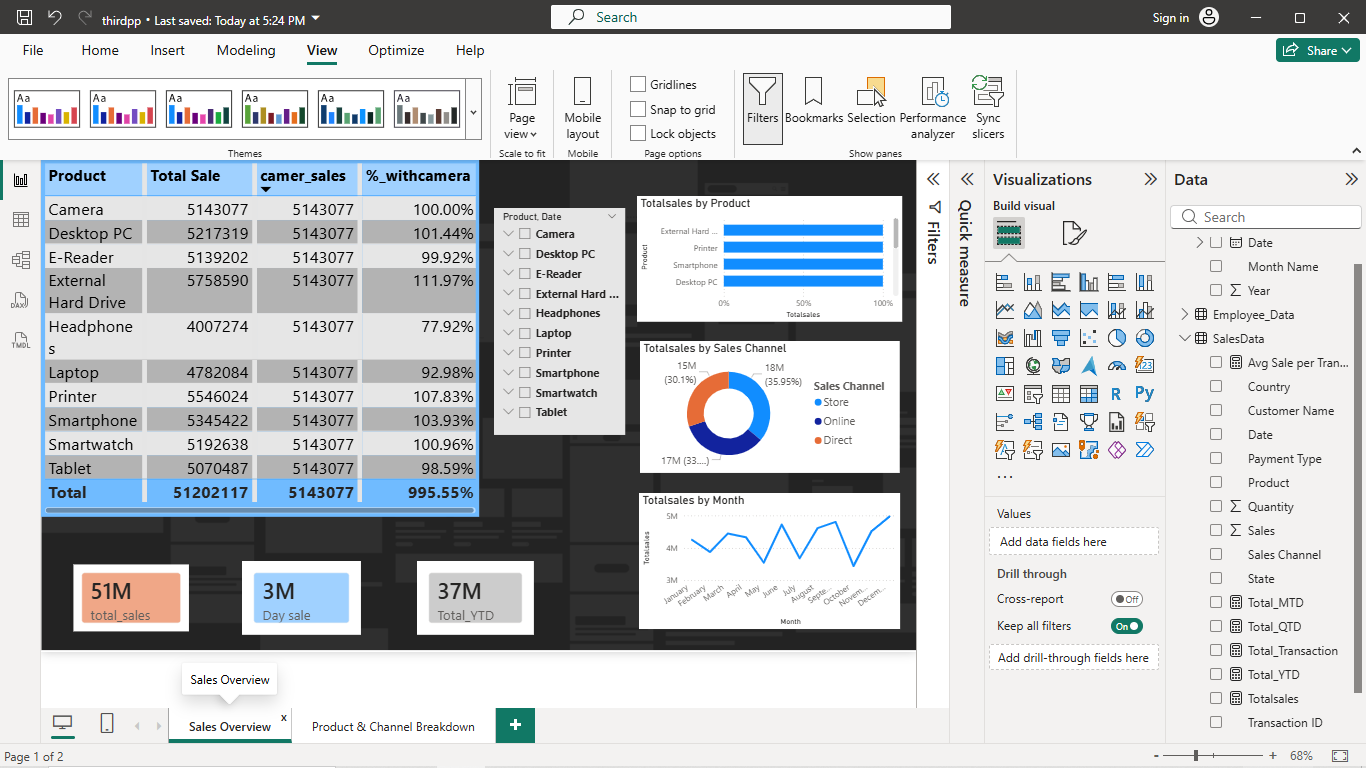

The dashboard page shown, as its layout file describes it:
{"tool":"powerbi","page":{"name":"Sales Overview","canvas":[1280,720],"ordinal":0},"visuals":[{"type":"tableEx","fields":{"Values":["TechyStore Sales_Data.Product","Sum(TechyStore Sales_Data.Total Sale (INR))","TechyStore Sales_Data.camer_sales","TechyStore Sales_Data.percentage_withcamera"]},"box":[0,0,640.7,522.2],"z":0},{"type":"cardVisual","fields":{"Data":["SalesData.Total_YTD"]},"box":[550,586.6,171.2,108.3],"z":2000},{"type":"lineChart","fields":{"Y":["SalesData.Totalsales"],"Category":["Custom_calender.Date.Variation.Date Hierarchy.Month"]},"box":[875.3,487.7,381.9,198.8],"z":3000},{"type":"hundredPercentStackedBarChart","fields":{"Y":["SalesData.Totalsales"],"Category":["SalesData.Product"]},"box":[871.9,52.7,387.7,184.3],"z":3001},{"type":"donutChart","fields":{"Category":["SalesData.Sales Channel"],"Y":["SalesData.Totalsales"]},"box":[876.3,264.8,380.3,193.1],"z":3002},{"type":"slicer","fields":{"Values":["SalesData.Product","Custom_calender.Date"]},"box":[662.7,70.2,191.6,332.1],"z":3003},{"type":"cardVisual","fields":{"Data":["TechyStore Sales_Data.total_sales"]},"box":[42.4,586.6,179.9,108.3],"z":3004},{"type":"cardVisual","fields":{"Data":["TechyStore Sales_Data.total_sales_byday"]},"box":[294,586.6,174.1,108.3],"z":3005}]}

Visuals, with their boxes on the page's 1280x720 design canvas (x1, y1, x2, y2). These are canvas units, not pixel positions in the 1366x768 screenshot, which may show the page scaled, cropped or inside an application window:
tableEx - TechyStore Sales_Data.Product x Sum(TechyStore Sales_Data.Total Sale (INR)): 0,0,641,522
cardVisual - SalesData.Total_YTD: 550,587,721,695
lineChart - SalesData.Totalsales x Custom_calender.Date.Variation.Date Hierarchy.Month: 875,488,1257,686
hundredPercentStackedBarChart - SalesData.Totalsales x SalesData.Product: 872,53,1260,237
donutChart - SalesData.Sales Channel x SalesData.Totalsales: 876,265,1257,458
slicer - SalesData.Product x Custom_calender.Date: 663,70,854,402
cardVisual - TechyStore Sales_Data.total_sales: 42,587,222,695
cardVisual - TechyStore Sales_Data.total_sales_byday: 294,587,468,695
